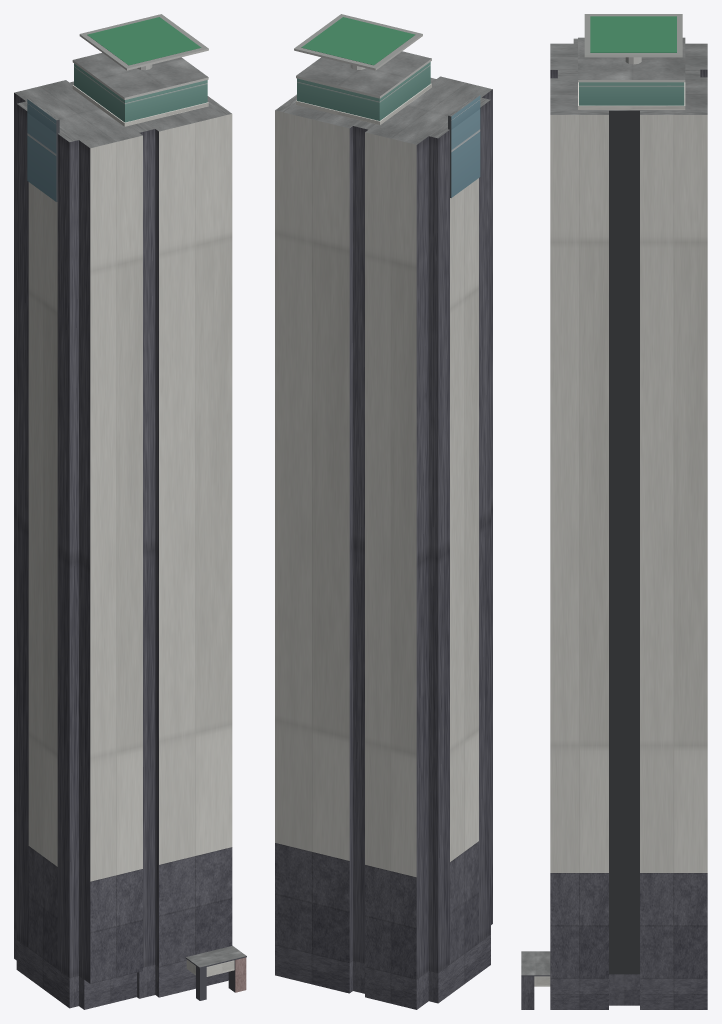
File: HighriseTower103_L1_5x4_LOD2.fbx
The picture shows the model from 3 angles, left to right: view 1: azimuth 30°, elevation 25°; view 2: azimuth 150°, elevation 25°; view 3: azimuth 270°, elevation 25°; orthographic projection. The views are drawn at different scales.
Parts seen in each view (by area): view 1: HighriseTower103_L1_5x4_LOD2; view 2: HighriseTower103_L1_5x4_LOD2; view 3: HighriseTower103_L1_5x4_LOD2.
Part boxes in pixels (x1,y1,x2,y2): HighriseTower103_L1_5x4_LOD2: (14, 14, 246, 1009); HighriseTower103_L1_5x4_LOD2: (275, 14, 492, 1009); HighriseTower103_L1_5x4_LOD2: (521, 14, 707, 1009).
Bounding box in the file's own units: 2762 × 15873 × 2820.
1 material, 1 textured.
